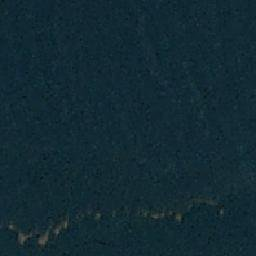debris: (50, 218, 69, 237), (37, 228, 53, 248), (16, 231, 32, 245), (148, 212, 163, 219), (216, 206, 224, 219), (7, 224, 17, 232), (172, 214, 182, 222), (94, 211, 105, 218)
